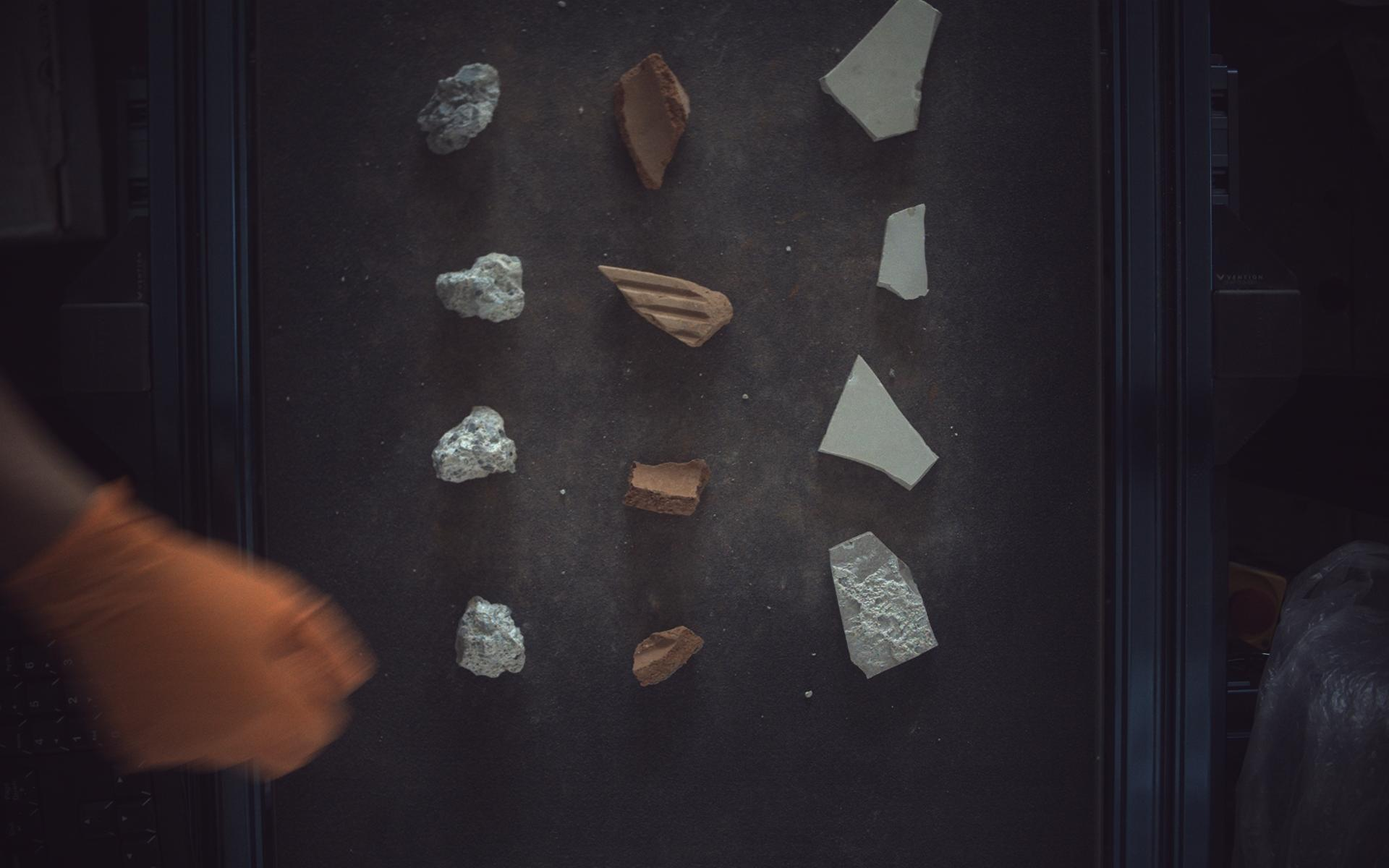brick: (600, 264, 734, 347), (614, 52, 691, 189), (624, 459, 712, 516), (633, 626, 704, 688)
concrete: (417, 61, 500, 154), (432, 407, 517, 483), (436, 252, 524, 322), (456, 597, 526, 678)
tile: (822, 1, 943, 140), (820, 355, 940, 490), (831, 533, 940, 678), (879, 203, 930, 299)
